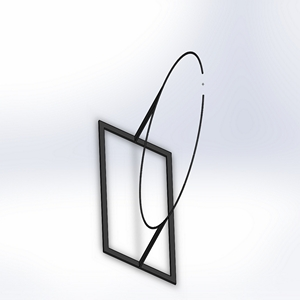circle: (96, 48, 206, 286)
